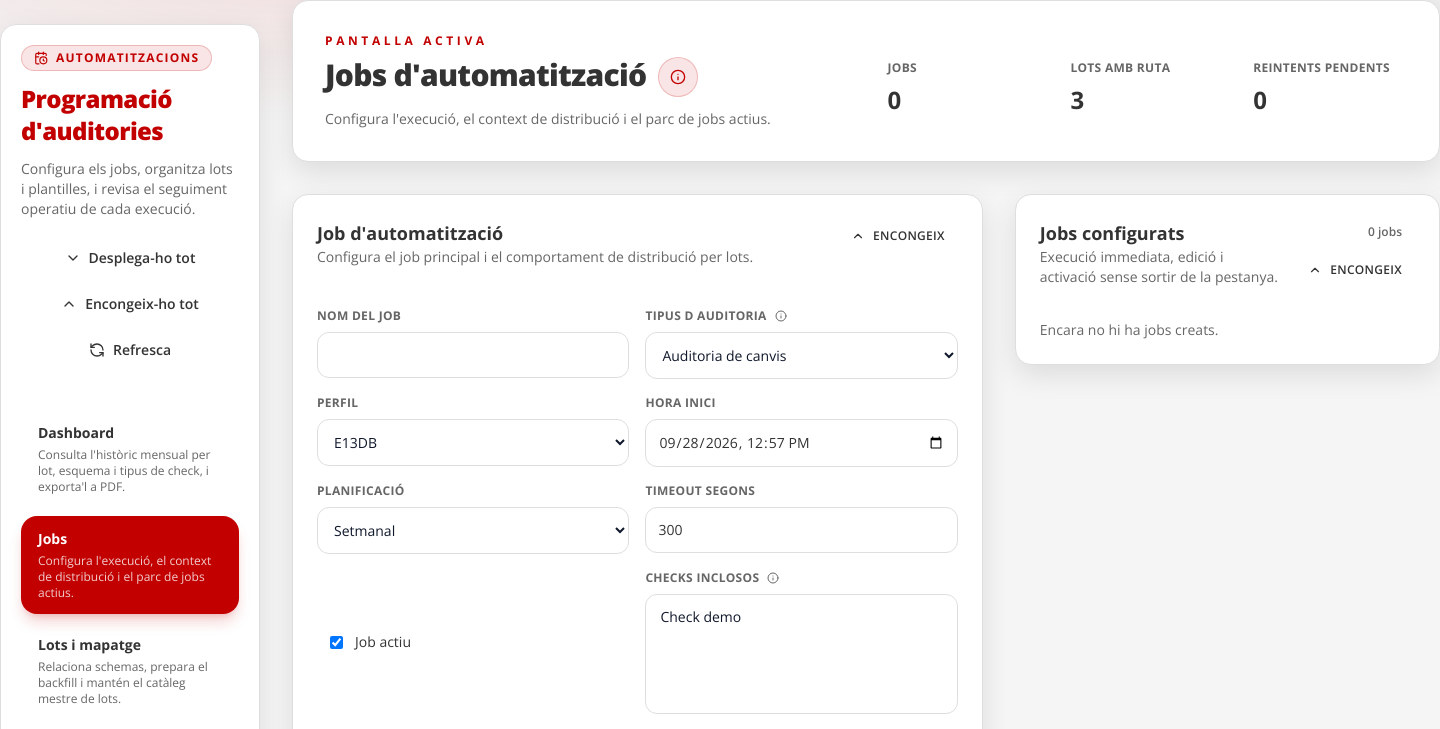
Scenario: AutomationView blocks saving duplicated schema mappings
Check: the heading "Programació d'auditories" is shown, box [21,82,172,147]
Click the button "Lots i mapatge".
click(130, 671)  # box [21,622,239,720]
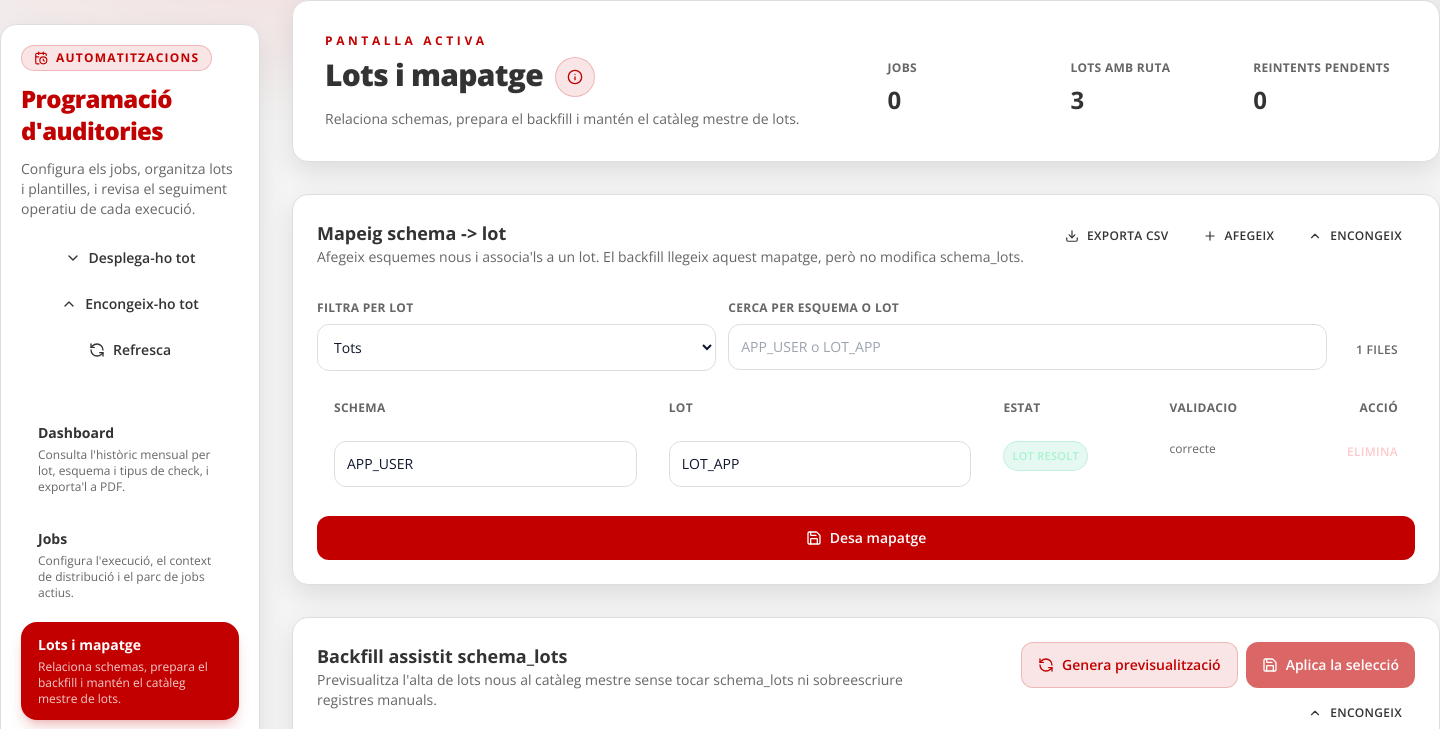
Check: the 1st field showing "APP_USER" is shown, box [334,441,637,487]
Click the button "Afegeix".
click(1238, 236)  # box [1190,219,1287,253]
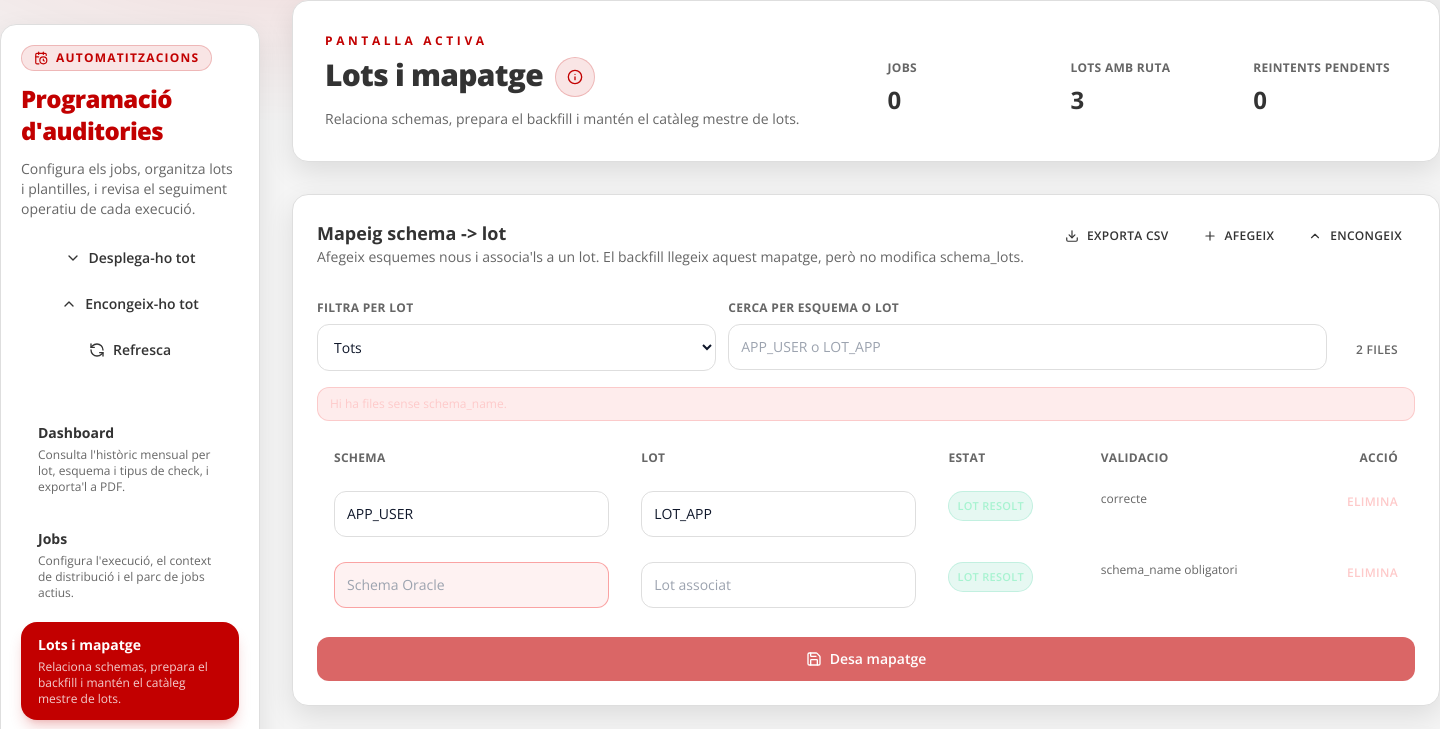
Type "APP_USER" into the field with placeholder "Schema Oracle".
click(472, 585); type("APP_USER")  # box [334,562,609,608]
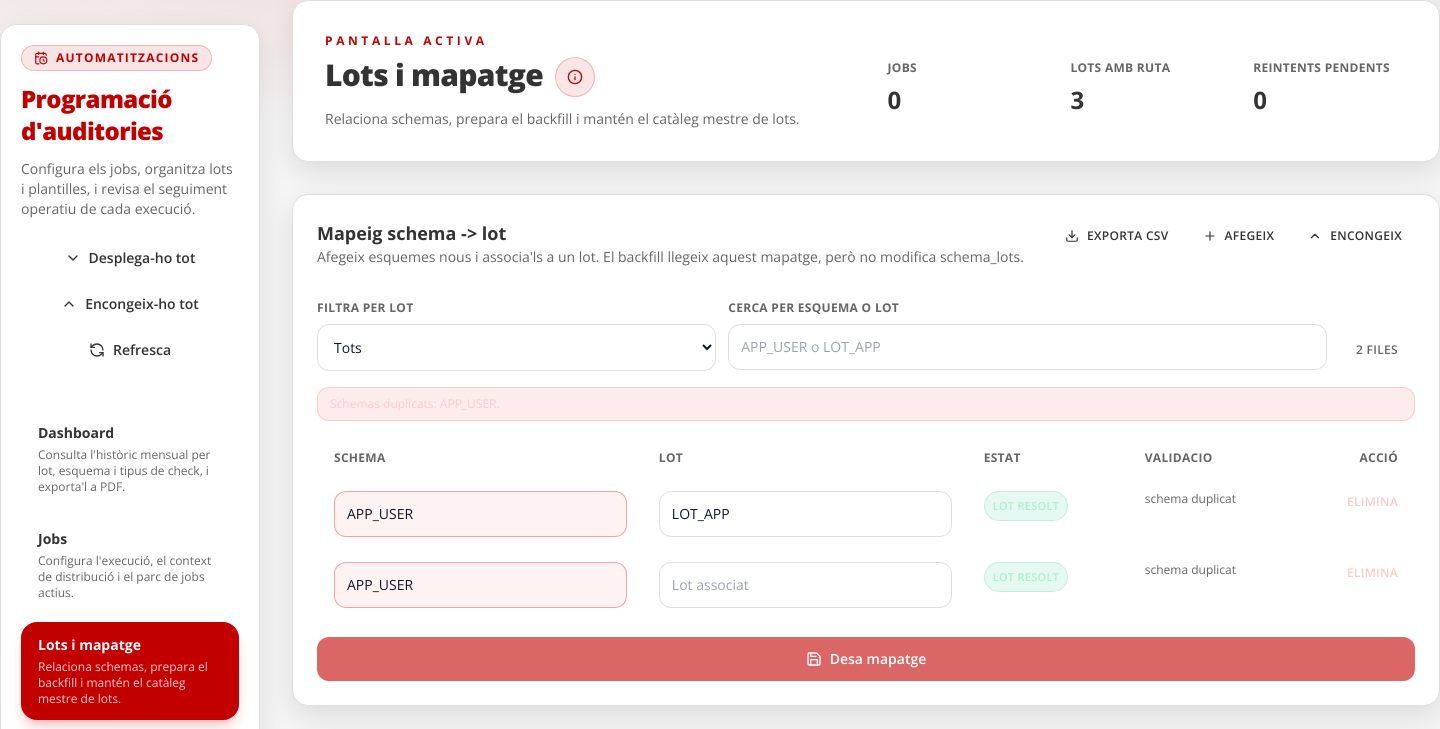
Check: the button "Desa mapatge" is disabled, box [317,637,1415,681]
Check: the text "Schemas duplicats: APP_USER." is shown, box [317,387,1415,421]
